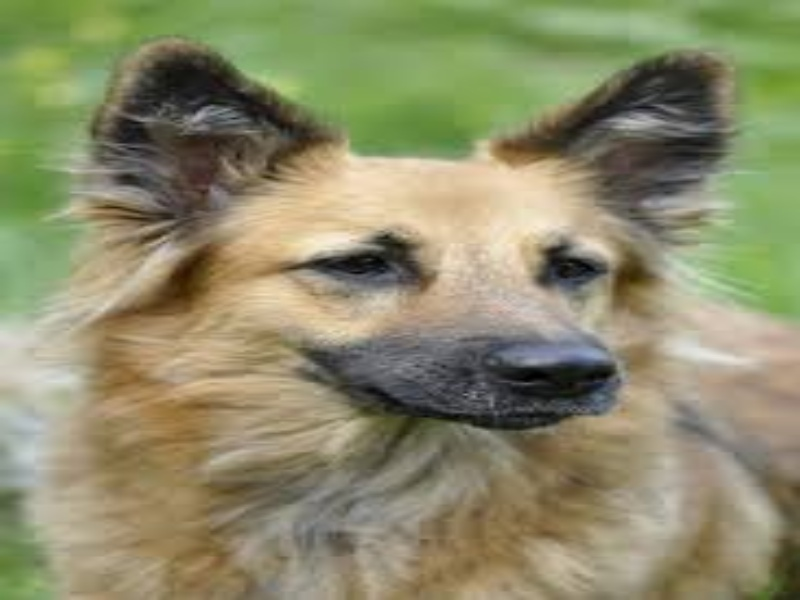dog: (39, 22, 769, 585)
